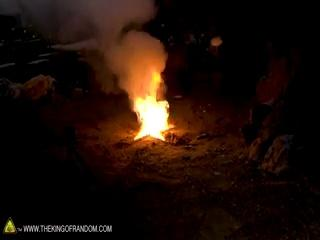Fire: (124, 72, 170, 141)
